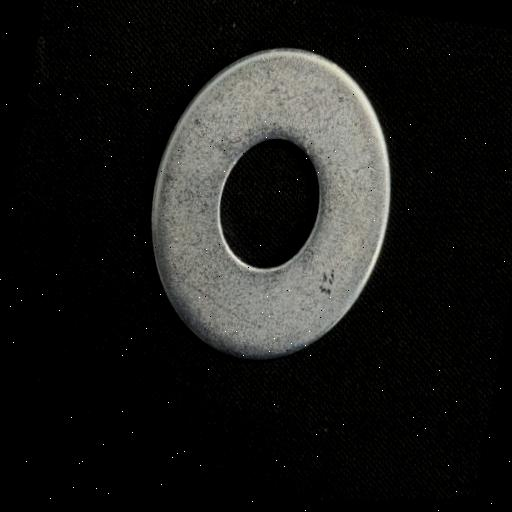Product: (152, 48, 390, 358)
Unclear surface: (306, 259, 346, 306)
